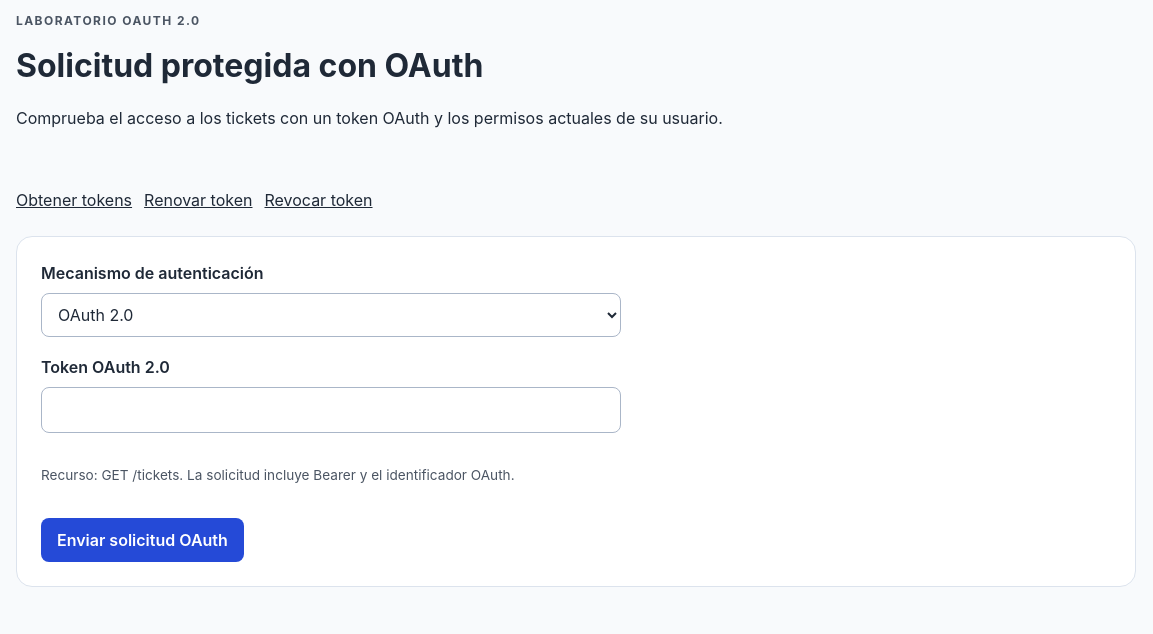
Scenario: muestra No autenticado ante un access expirado
The width and height of the screenshot is (1153, 634).
Type "access-invalido" into the password field labelled "Token OAuth 2.0".
click(331, 410); type("access-invalido")  # box [41,387,621,433]
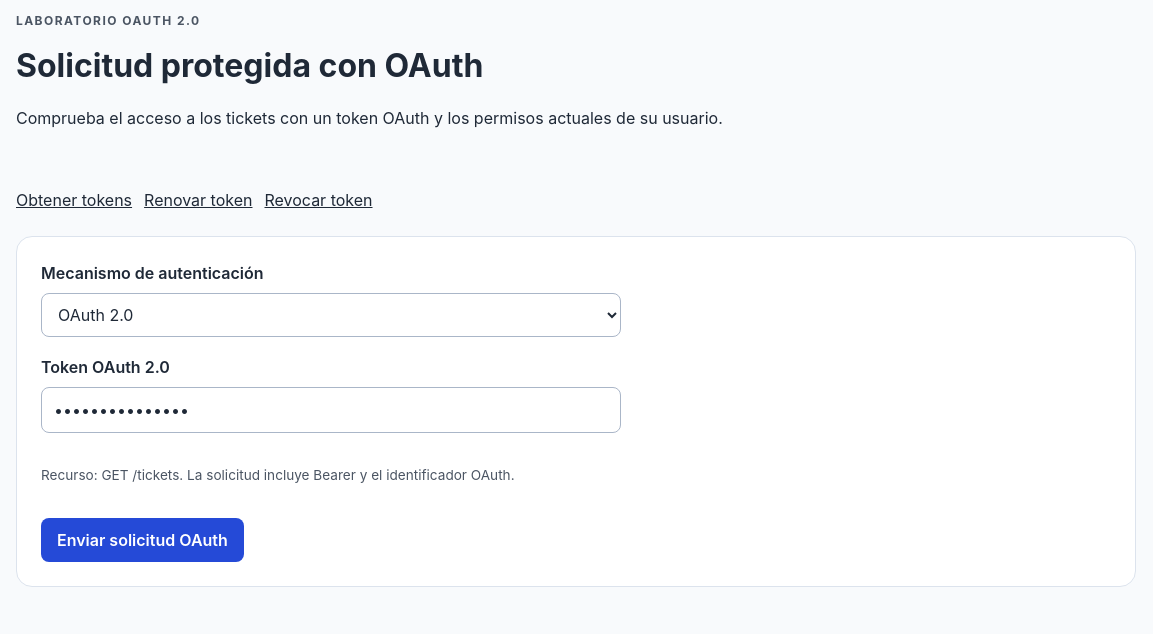
Click the button "Enviar solicitud OAuth".
click(142, 540)  # box [41,518,244,562]
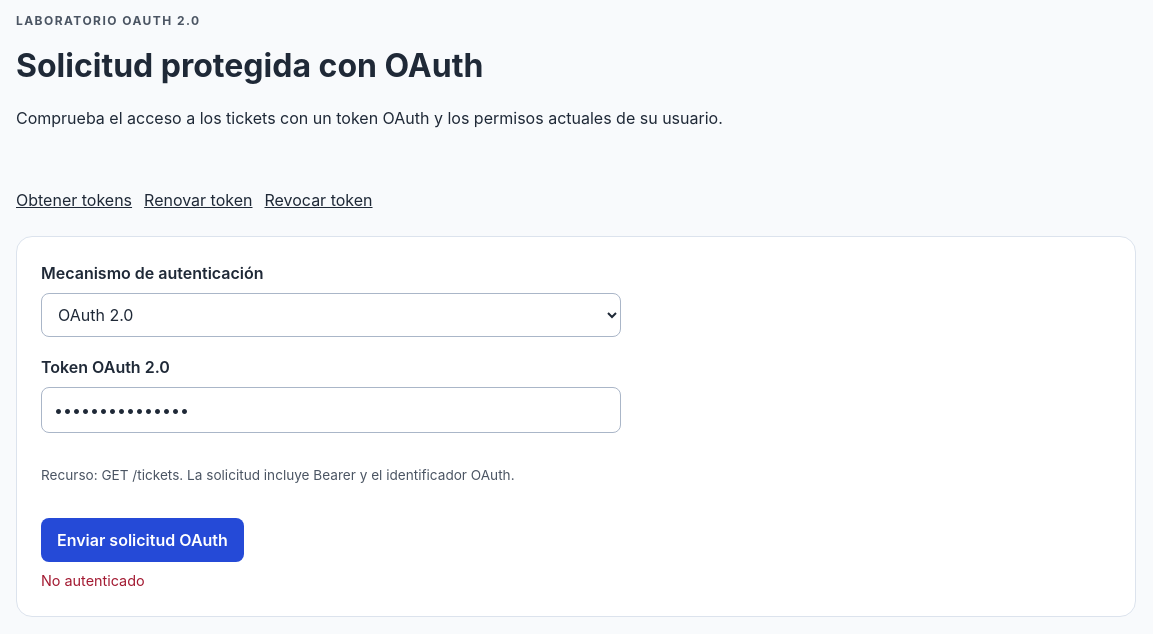
Expected: the message reads "No autenticado", [41,572,145,589]
